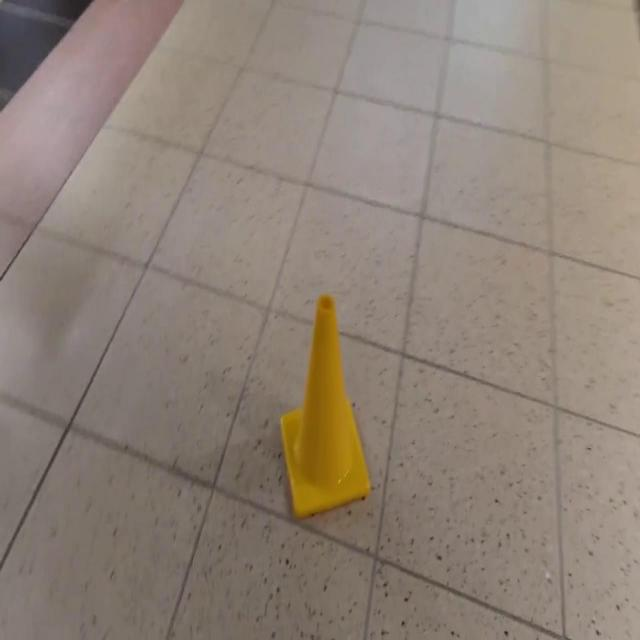frc_cone: (279, 292, 370, 522)
